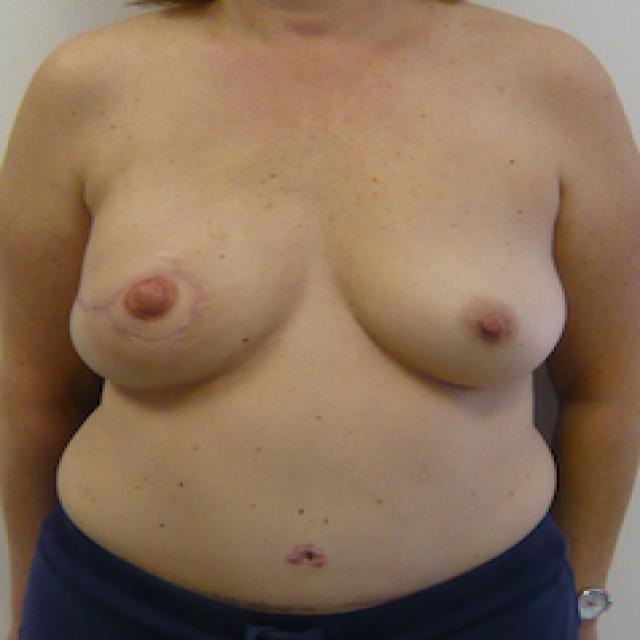Seno herido: (59, 170, 315, 407)
Seno ileso: (321, 170, 578, 407)
